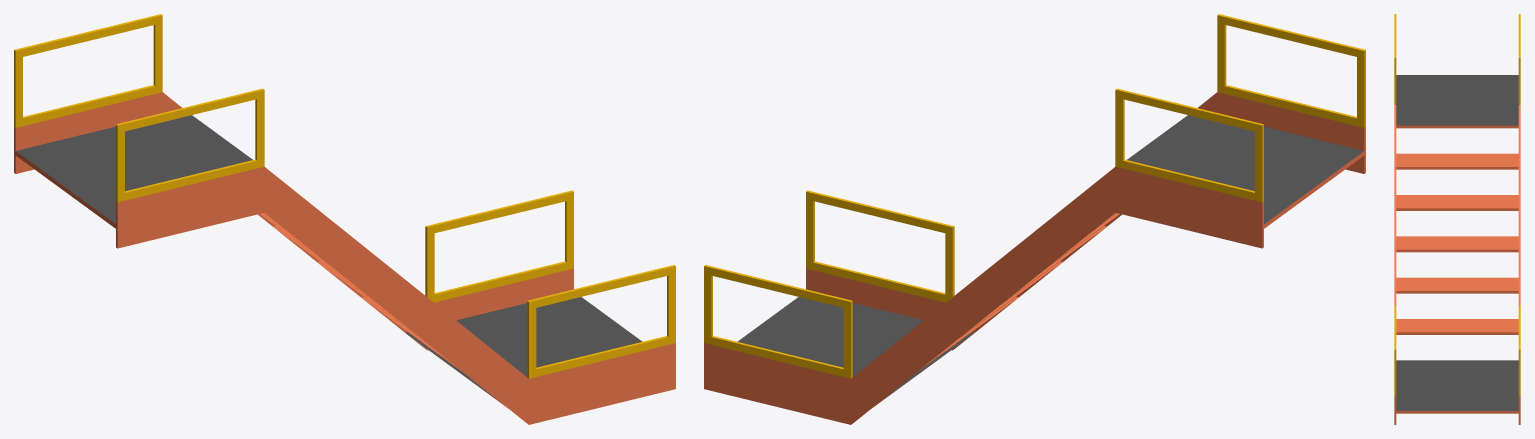
File: Prop_Industrial_Platform_Walkway_Narrow_Steps_w_Platform_01.FBX
The picture shows the model from 3 angles, left to right: view 1: azimuth 30°, elevation 25°; view 2: azimuth 150°, elevation 25°; view 3: azimuth 270°, elevation 25°; orthographic projection. The views are drawn at different scales.
Parts seen in each view (by area): view 1: Prop_Industrial_Platform_Walkway_Narrow_Steps_w_Platform_01; view 2: Prop_Industrial_Platform_Walkway_Narrow_Steps_w_Platform_01; view 3: Prop_Industrial_Platform_Walkway_Narrow_Steps_w_Platform_01.
Boxes of the visible parts, x1=… form: Prop_Industrial_Platform_Walkway_Narrow_Steps_w_Platform_01: x1=14, y1=14, x2=675, y2=424; Prop_Industrial_Platform_Walkway_Narrow_Steps_w_Platform_01: x1=704, y1=14, x2=1365, y2=424; Prop_Industrial_Platform_Walkway_Narrow_Steps_w_Platform_01: x1=1394, y1=14, x2=1520, y2=424.
Bounding box in the file's own units: 7600 × 5200 × 2440.
